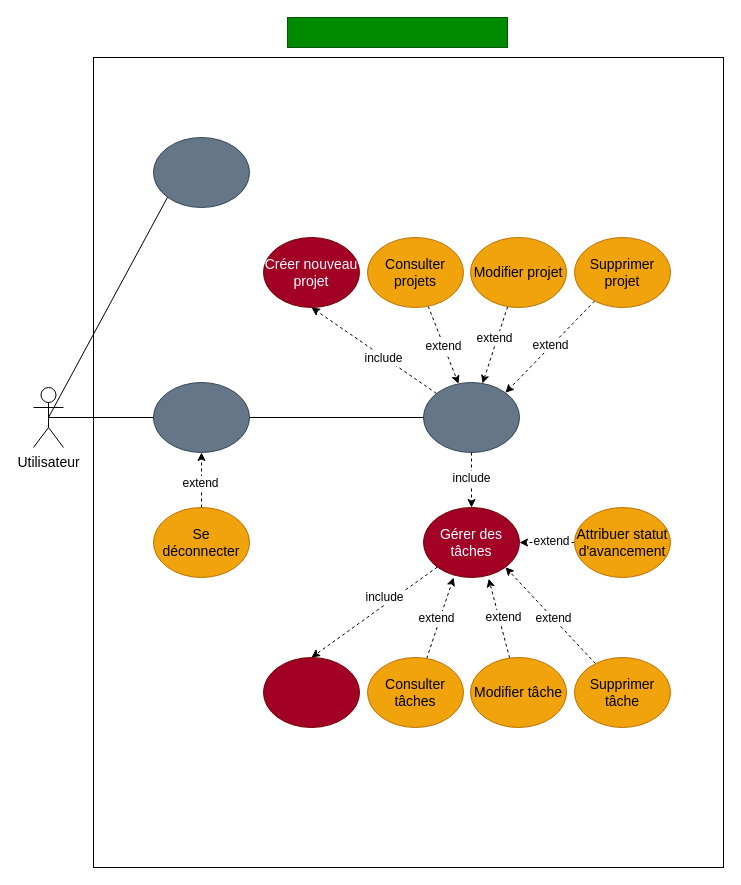
Some shapes in this 741 by 885 pixel diagram are drawn without their labels. Here are the shapes that lost their labels. From the top down, the centre of each, then its label:
At (x=397, y=32): "Système de Gestion de Projet".
At (x=201, y=172): "Créer un accès".
At (x=201, y=417): "S'authentifier".
At (x=471, y=417): "Gérer des projets".
At (x=311, y=692): "Créer nouvelle tâche".
